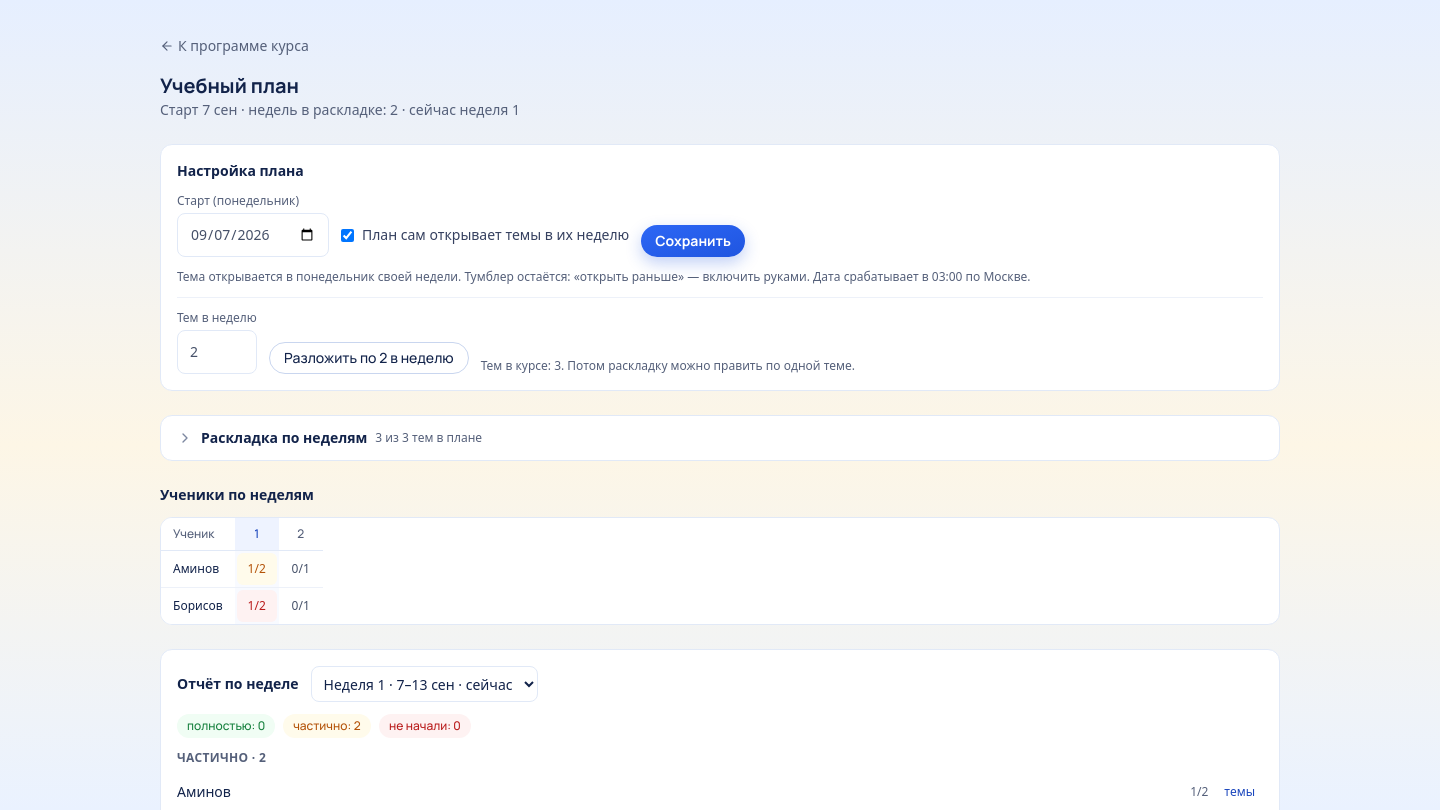
Test case: StudyPlanPage › клик по клетке открывает темы ученика с расхождением «отметил, не сдал»
Step 1. Click the 1st button with test id "plan-cell" → click(257, 569), box [237,553,277,585]
(page scrolled)
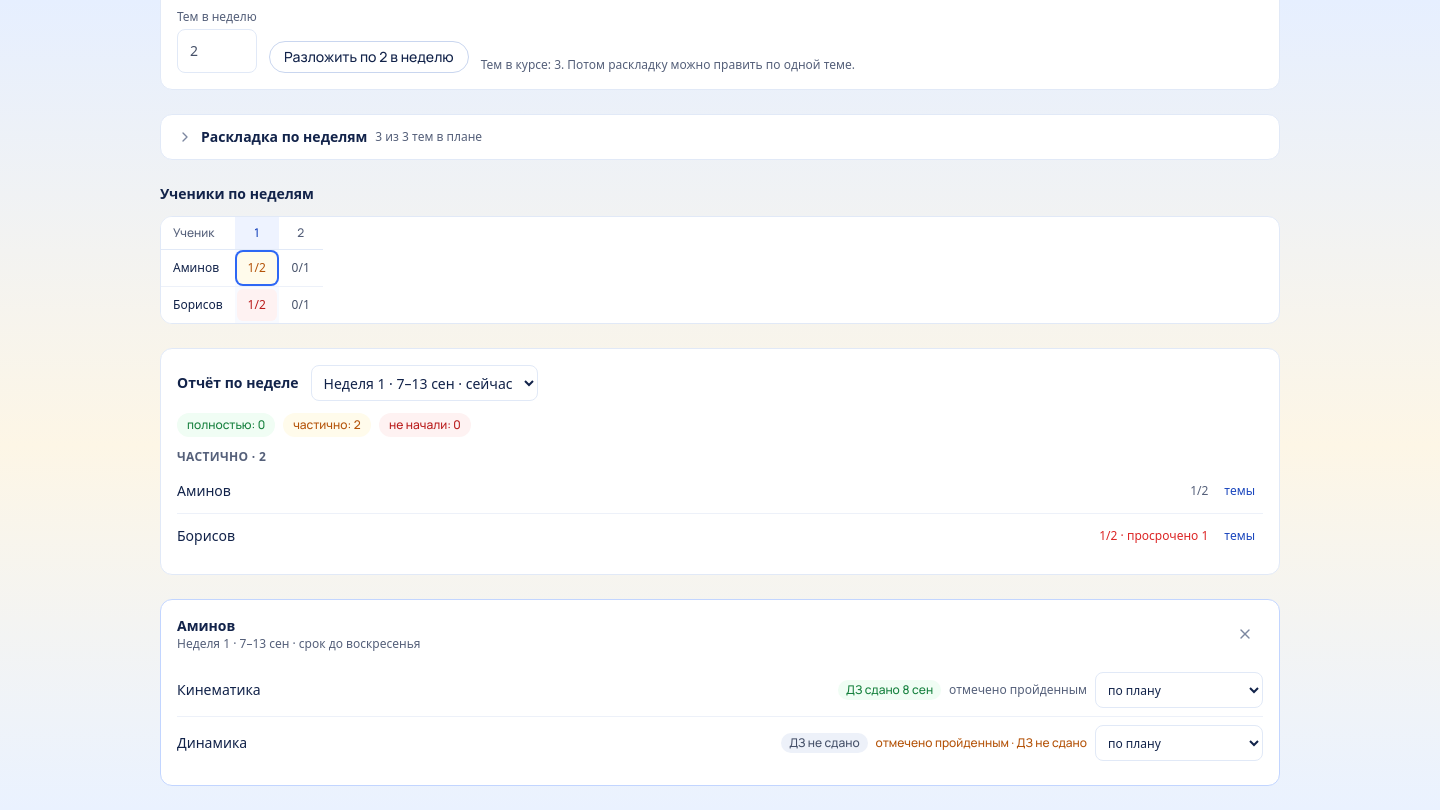
expect the element with test id "student-week-detail" shows "Аминов": met, box [177,616,235,635]
expect the list item with test id "detail-topic" shows "Динамика": met, box [177,733,247,752]
expect the list item with test id "detail-topic" shows "отмечено пройденным · ДЗ не сдано": met, box [177,716,1263,769]
